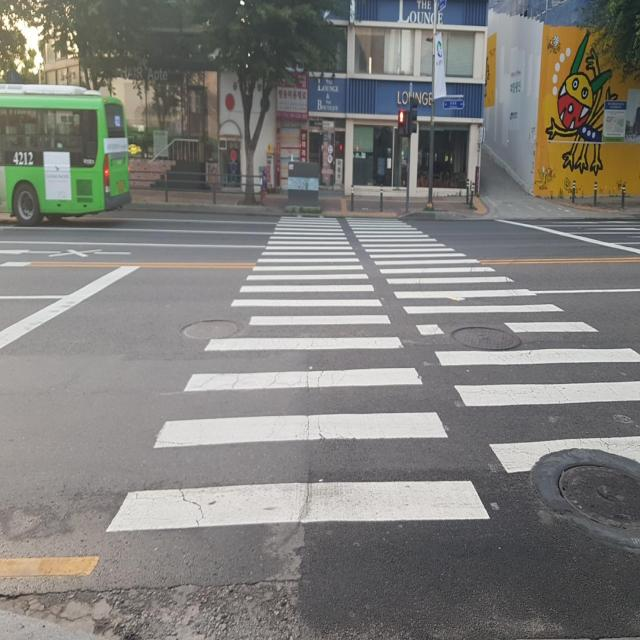빨간불: (398, 109, 407, 136)
횡단보도: (106, 214, 640, 535)
